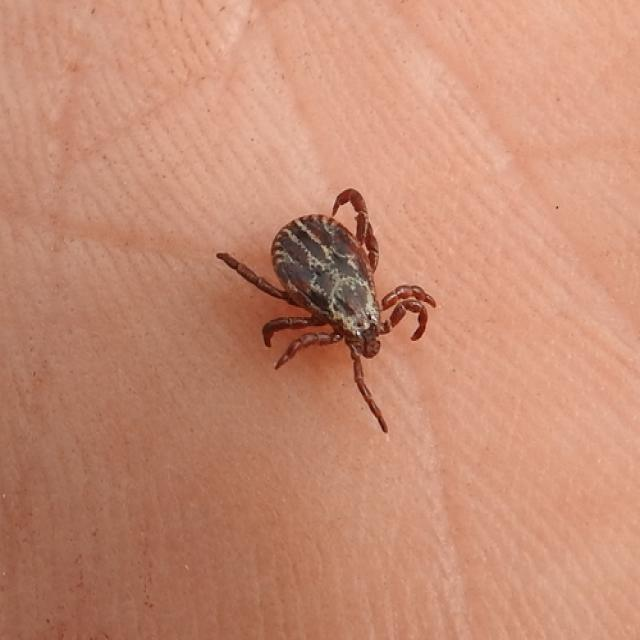Dermacentor Reticulatus-M: (215, 188, 438, 434)
